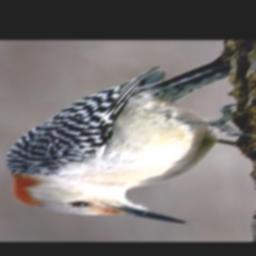Woodpecker: (4, 65, 253, 224)
